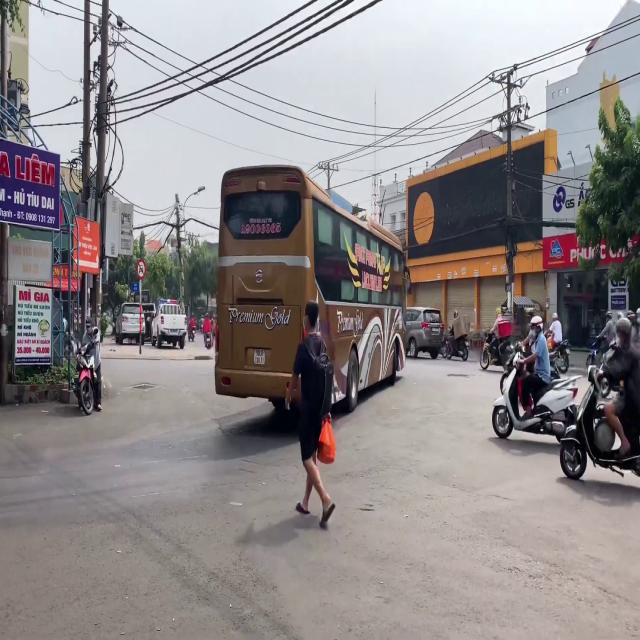bien_trang: (254, 348, 265, 365)
